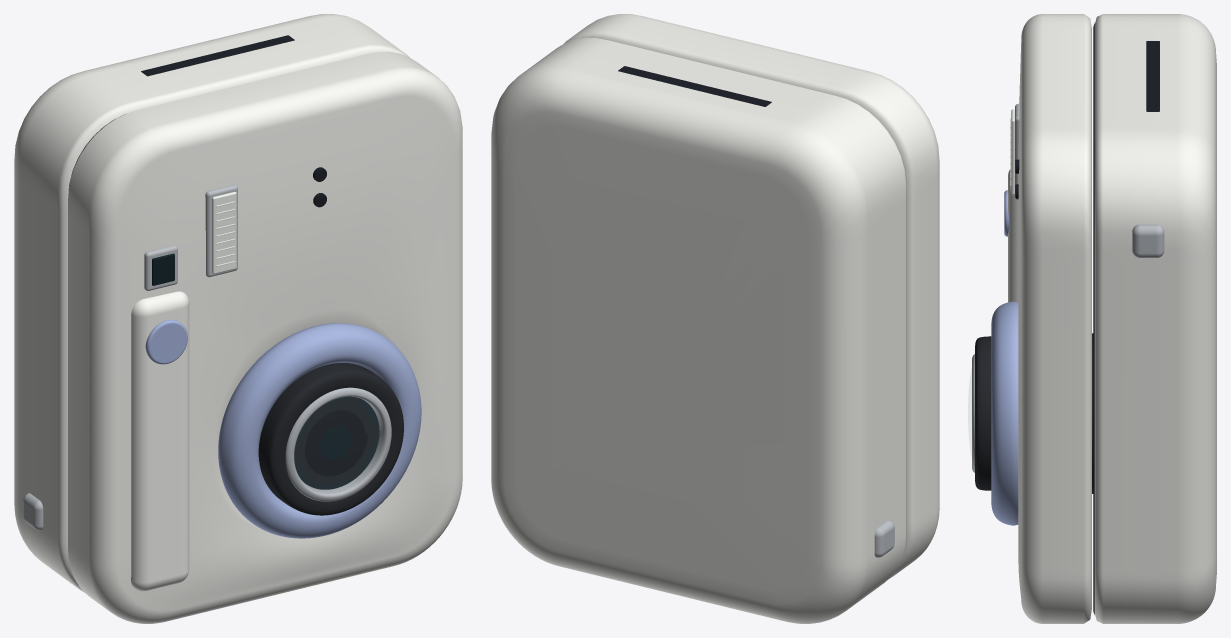
File: rangefinder-camera.glb
The picture shows the model from 3 angles, left to right: view 1: azimuth 30°, elevation 25°; view 2: azimuth 150°, elevation 25°; view 3: azimuth 270°, elevation 25°; orthographic projection. The views are drawn at different scales.
Parts seen in each view (by area): view 1: hollow-front-cover-with-optical-aperture, hollow-pearl-rear-housing, continuous-satin-periwinkle-lens-mount, sculpted-hand-grip, optical-focus-sleeve, machined-optical-retaining-ring, curved-transparent-optical-window, dark-optical-recess, frosted-flash-diffuser, rounded-front-shutter, film-ejection-slot, flash-surround (+9 smaller); view 2: hollow-pearl-rear-housing, hollow-front-cover-with-optical-aperture, film-ejection-slot, lower-strap-lug; view 3: hollow-pearl-rear-housing, hollow-front-cover-with-optical-aperture, continuous-satin-periwinkle-lens-mount, optical-focus-sleeve, sculpted-hand-grip, precision-cover-gasket, strap-lug, film-ejection-slot.
Boxes of the visible parts, box(x1,y1,x2,y2) form: hollow-front-cover-with-optical-aperture: box(68, 51, 462, 623); hollow-pearl-rear-housing: box(14, 14, 409, 592); continuous-satin-periwinkle-lens-mount: box(218, 323, 421, 538); sculpted-hand-grip: box(131, 291, 189, 591); optical-focus-sleeve: box(258, 363, 403, 515); machined-optical-retaining-ring: box(285, 387, 391, 501); curved-transparent-optical-window: box(295, 397, 381, 490); dark-optical-recess: box(294, 396, 379, 489); frosted-flash-diffuser: box(212, 191, 236, 274); rounded-front-shutter: box(145, 320, 187, 364); film-ejection-slot: box(141, 35, 294, 76); flash-surround: box(205, 184, 237, 277); hollow-pearl-rear-housing: box(491, 38, 906, 623); hollow-front-cover-with-optical-aperture: box(564, 14, 939, 578); film-ejection-slot: box(618, 66, 771, 106); lower-strap-lug: box(874, 520, 894, 557); hollow-pearl-rear-housing: box(1094, 14, 1216, 623); hollow-front-cover-with-optical-aperture: box(1018, 14, 1091, 623); continuous-satin-periwinkle-lens-mount: box(991, 301, 1018, 525); optical-focus-sleeve: box(975, 336, 991, 490); sculpted-hand-grip: box(1008, 169, 1018, 302); precision-cover-gasket: box(1093, 23, 1094, 614); strap-lug: box(1132, 224, 1164, 257); film-ejection-slot: box(1146, 41, 1159, 111).
Bounding box in the file's own units: 1.62 × 2 × 0.9299.
